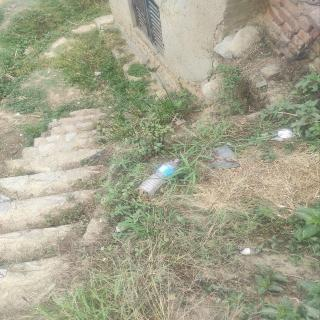Plastic-bottle: (137, 156, 186, 197)
